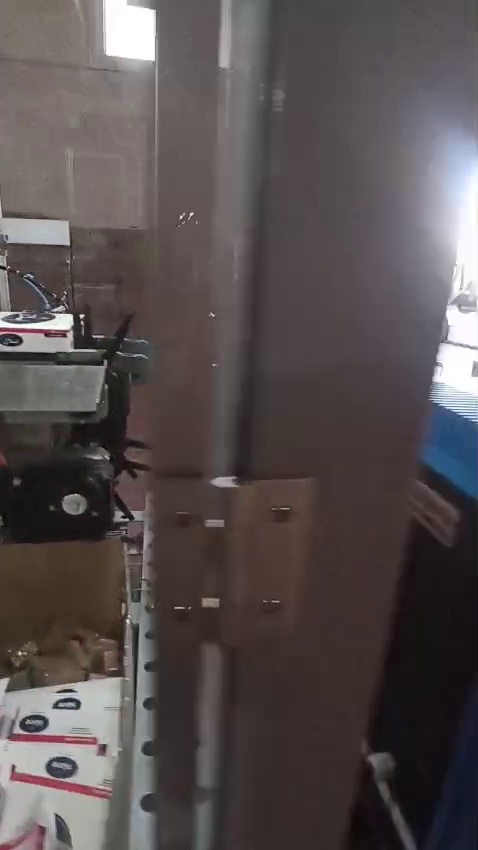savon: (0, 540, 134, 686), (257, 416, 304, 479), (193, 512, 236, 550), (130, 240, 160, 266), (17, 428, 38, 450), (232, 483, 256, 502), (200, 592, 222, 612), (178, 512, 190, 528), (64, 273, 80, 285)
